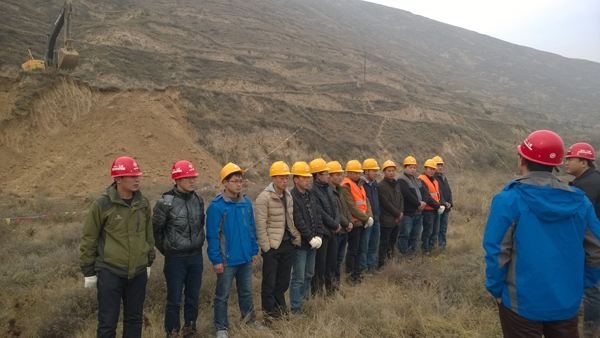red: (514, 125, 562, 181), (108, 151, 143, 194), (562, 137, 595, 177), (169, 158, 198, 194)
yellow: (219, 160, 244, 197), (288, 159, 311, 191), (267, 160, 290, 191), (308, 156, 330, 184), (361, 156, 380, 182), (326, 158, 344, 185), (344, 158, 362, 182), (400, 154, 418, 176), (380, 157, 397, 180), (423, 158, 437, 177), (432, 153, 445, 172)
